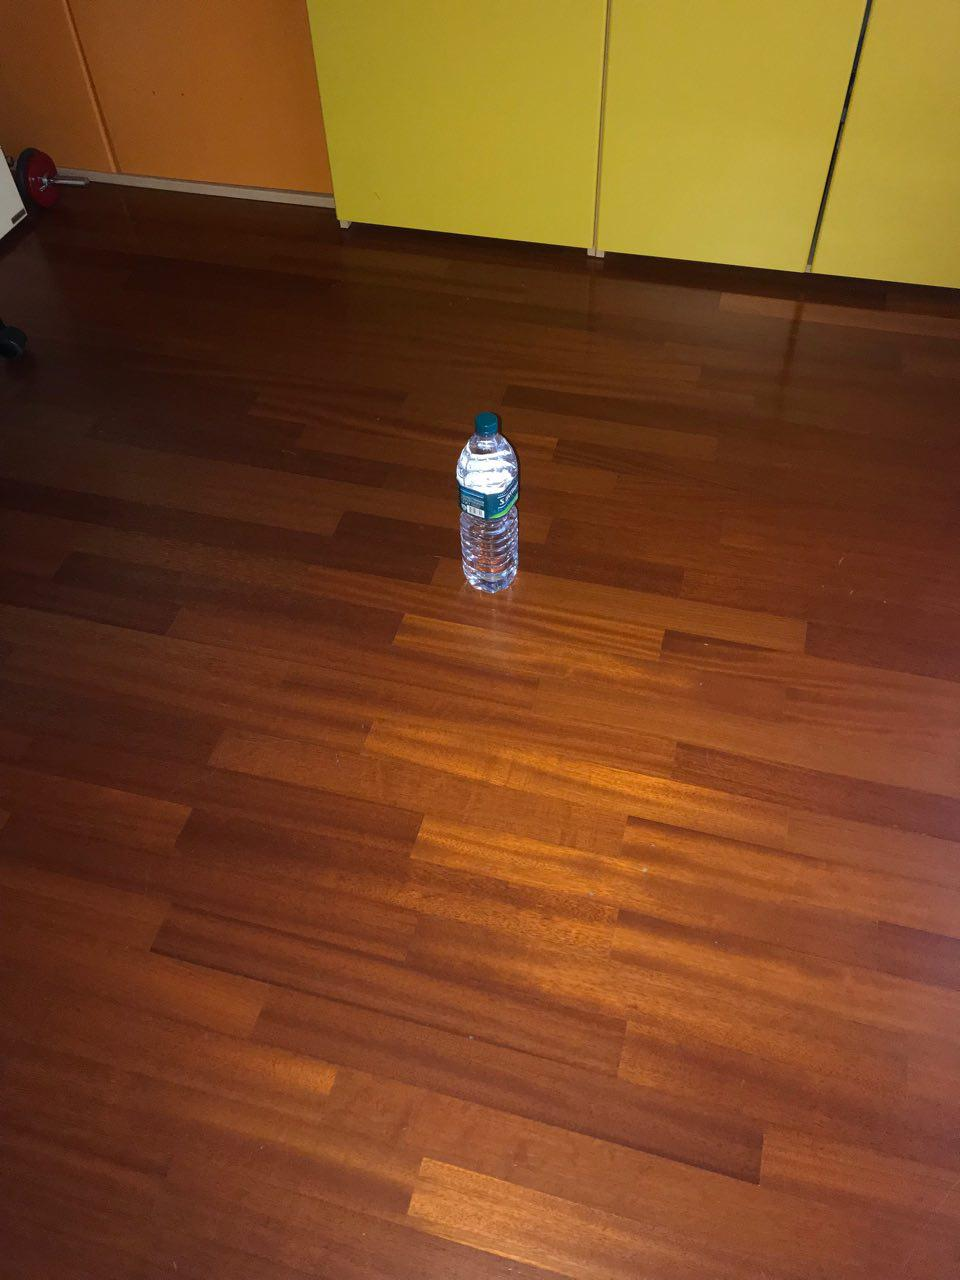san_bernardo: (454, 410, 520, 594)
